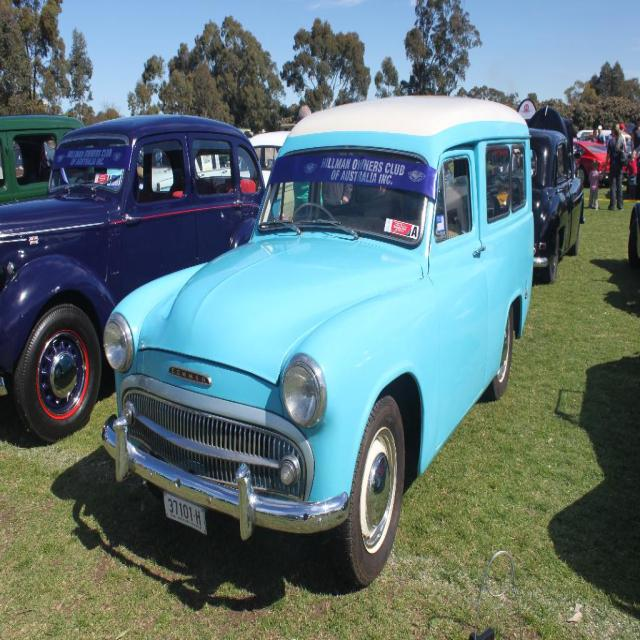car: (96, 109, 550, 592), (571, 134, 611, 214)
